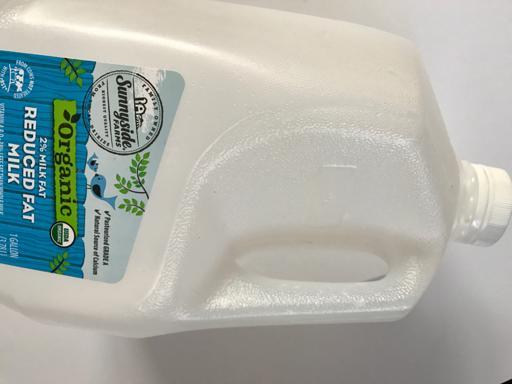bottle: (0, 3, 467, 297)
